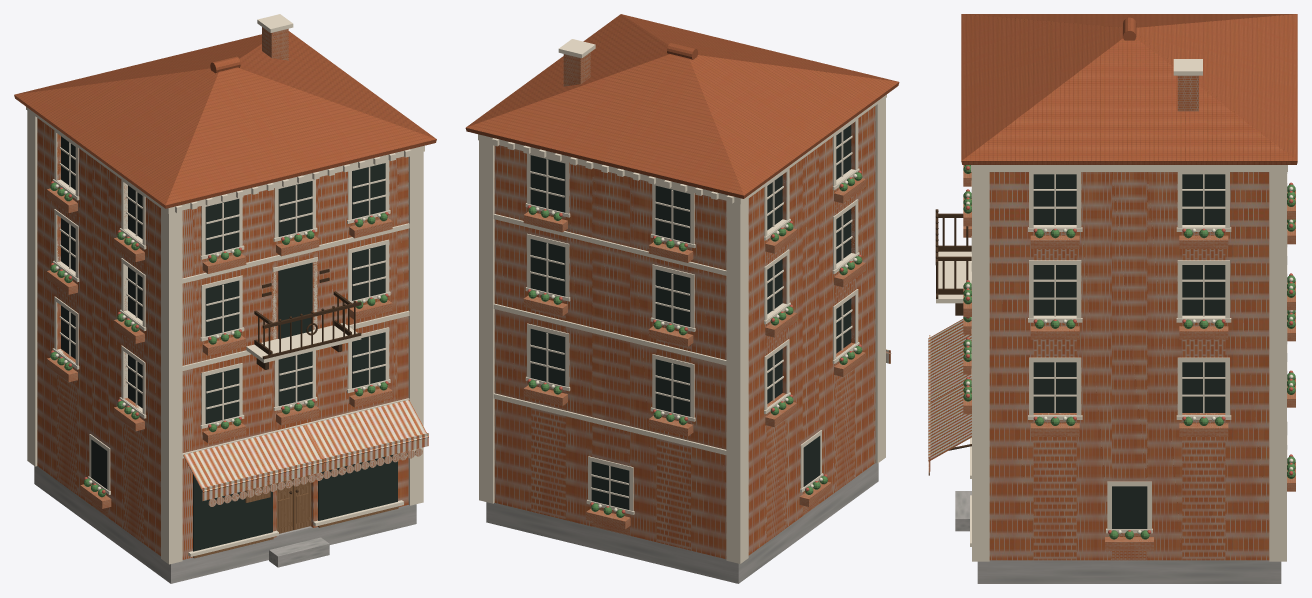
File: gedung-g02-blender-v2.glb
3 renders of one model, left to right at view 1: azimuth 30°, elevation 25°; view 2: azimuth 150°, elevation 25°; view 3: azimuth 270°, elevation 25°, orthographic. The views are drawn at different scales.
Visible parts, largest first — view 1: Blk_B1, Atap, BalkSlab, EtalKaca-2.05, AwningTop, Plinth, W1_-2.4_Daun0, Arm-3.2, EtalBulk_-2.05; view 2: Blk_B1, Atap, BalkSlab, EtalKaca-2.05, Plinth, W1_-2.4_Daun0; view 3: Blk_B1, Atap, BalkSlab, EtalKaca-2.05, Plinth, AwningTop, W1_-2.4_Daun0, Arm-3.2, W1_-2.4_B0, W1_-2.4_B1.
Part boxes in pixels (x1,y1,x2,y2): Blk_B1: (37, 27, 408, 559); Atap: (14, 31, 436, 208); BalkSlab: (26, 14, 424, 564); EtalKaca-2.05: (61, 136, 397, 551); AwningTop: (183, 400, 428, 506); Plinth: (34, 466, 416, 583); W1_-2.4_Daun0: (50, 182, 387, 497); Arm-3.2: (254, 269, 361, 493); EtalBulk_-2.05: (193, 475, 398, 558); Blk_B1: (494, 52, 875, 558); Atap: (465, 14, 899, 198); BalkSlab: (478, 39, 886, 563); EtalKaca-2.05: (530, 125, 851, 509); Plinth: (486, 463, 878, 583); W1_-2.4_Daun0: (528, 172, 862, 517); Blk_B1: (963, 75, 1295, 560); Atap: (961, 14, 1297, 164); BalkSlab: (936, 59, 1287, 561); EtalKaca-2.05: (1033, 174, 1225, 528); Plinth: (955, 491, 1281, 583); AwningTop: (928, 319, 971, 475); W1_-2.4_Daun0: (963, 165, 1295, 539); Arm-3.2: (935, 209, 971, 450); W1_-2.4_B0: (966, 166, 1293, 533); W1_-2.4_B1: (966, 186, 1293, 534).
Bounding box in the file's own units: 8.9 × 13.92 × 9.45.
11 materials, 5 textured.
